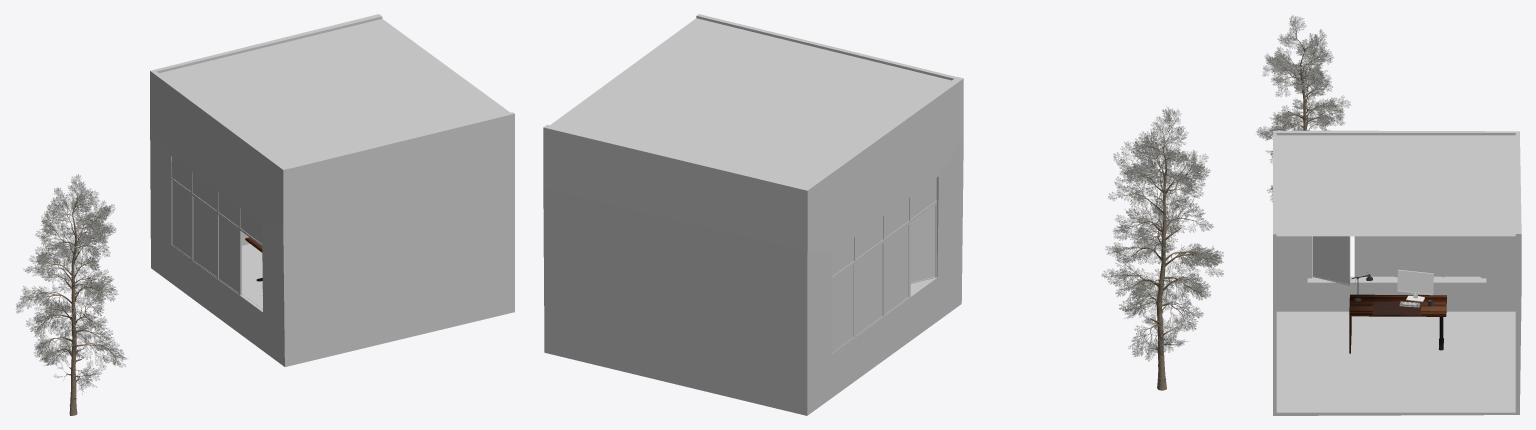
File: sceneDraco.glb
3 views of the same model, side by side, from view 1: azimuth 30°, elevation 25°; view 2: azimuth 150°, elevation 25°; view 3: azimuth 270°, elevation 25° (orthographic). The views are drawn at different scales.
Visible parts, largest first — view 1: Room, Floor (×2), conifer_macedonian_pine010_2, Plane001, conifer_macedonian_pine010, Plane002; view 2: Room, Floor, conifer_macedonian_pine010_2, Plane001, conifer_macedonian_pine010, Plane, Plane002; view 3: Floor (×2), Room, conifer_macedonian_pine010_2, Plane001, Plane_Desk_Material_0001, Plane, Cube081_2, conifer_macedonian_pine010, Display.
Part boxes in pixels (bbox=[...]): Room: bbox=[150, 14, 514, 366]; Floor (×2): bbox=[159, 19, 509, 298]; conifer_macedonian_pine010_2: bbox=[16, 174, 127, 393]; Plane001: bbox=[171, 157, 239, 292]; conifer_macedonian_pine010: bbox=[25, 192, 116, 415]; Plane002: bbox=[240, 208, 262, 243]; Room: bbox=[543, 14, 963, 415]; Floor: bbox=[550, 18, 951, 187]; conifer_macedonian_pine010_2: bbox=[1102, 107, 1223, 361]; Plane001: bbox=[832, 198, 908, 352]; conifer_macedonian_pine010: bbox=[1120, 118, 1208, 390]; Plane: bbox=[910, 205, 934, 282]; Plane002: bbox=[910, 178, 936, 219]; Floor (×2): bbox=[1276, 135, 1515, 412]; Room: bbox=[1273, 130, 1521, 415]; conifer_macedonian_pine010_2: bbox=[1256, 15, 1350, 201]; Plane001: bbox=[1357, 236, 1479, 275]; Plane_Desk_Material_0001: bbox=[1349, 294, 1446, 353]; Plane: bbox=[1313, 236, 1348, 284]; Cube081_2: bbox=[1307, 277, 1486, 287]; conifer_macedonian_pine010: bbox=[1272, 25, 1335, 130]; Display: bbox=[1398, 271, 1432, 293].
Bounding box in the file's own units: 8.5 × 4.13 × 4.48.
Materials: 115 (7 with a texture image).
